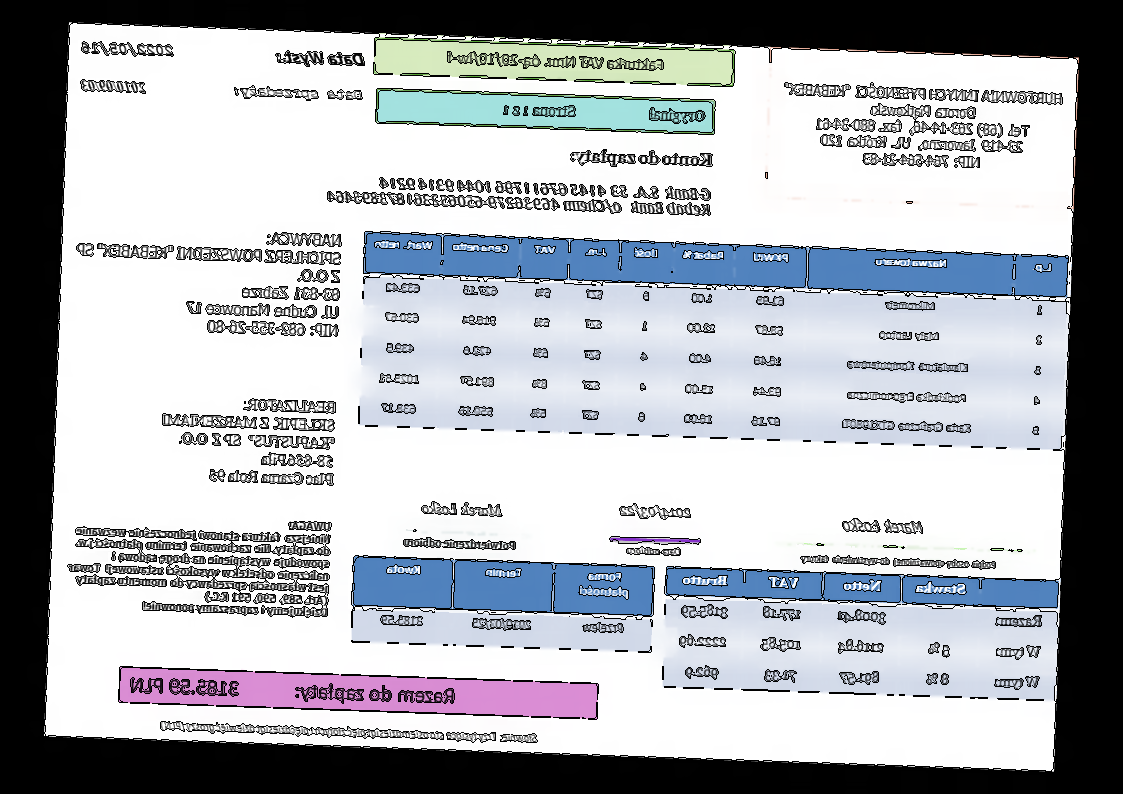Table: (357, 231, 1070, 451), (660, 565, 1060, 702), (350, 555, 656, 653)
TextBox: (72, 223, 345, 340), (65, 509, 334, 620), (779, 80, 1064, 176), (325, 173, 714, 220), (156, 392, 339, 488), (127, 674, 457, 709), (158, 717, 540, 747), (446, 47, 667, 75), (501, 100, 707, 125), (797, 550, 1000, 573), (567, 144, 716, 172), (233, 83, 366, 103), (80, 38, 178, 60), (400, 535, 518, 553), (273, 47, 368, 68), (840, 515, 925, 536), (420, 500, 504, 520), (616, 502, 695, 523), (81, 78, 149, 94), (625, 542, 685, 559)
